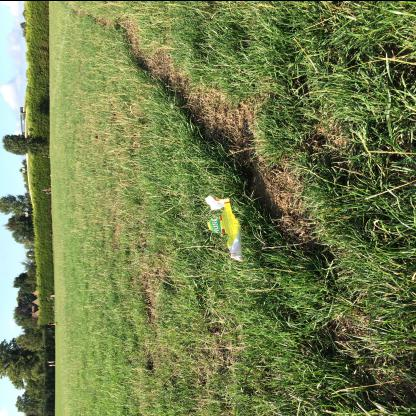plastik: (204, 194, 244, 262)
